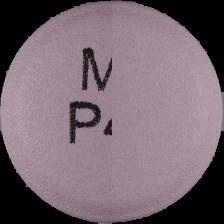0378-2004: (0, 0, 224, 224)
